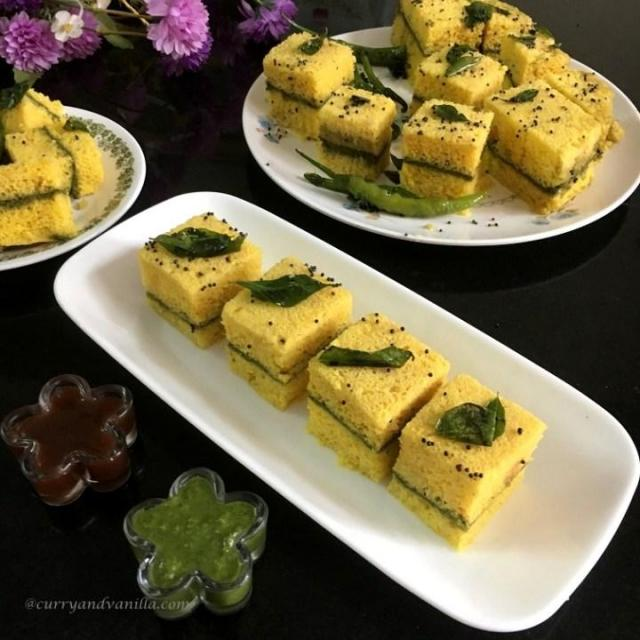dhokla: (121, 200, 542, 533), (252, 0, 640, 218), (4, 61, 154, 247)
